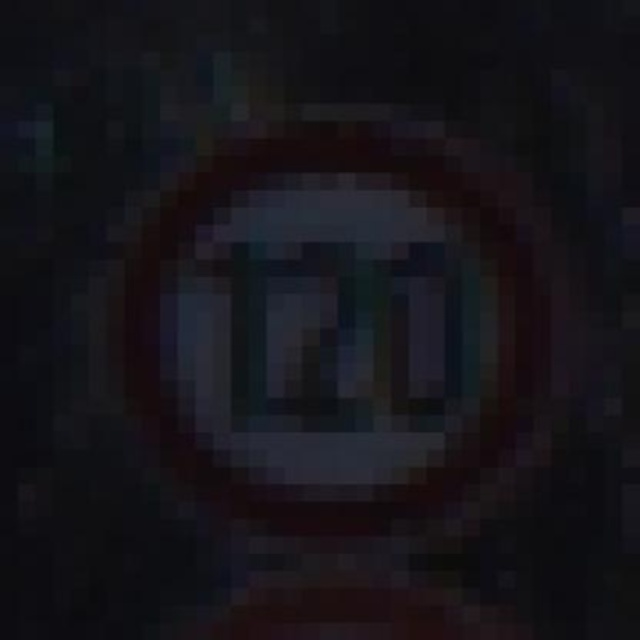Tốc độ tối đa cho phép 120km/h: (130, 132, 547, 543)
